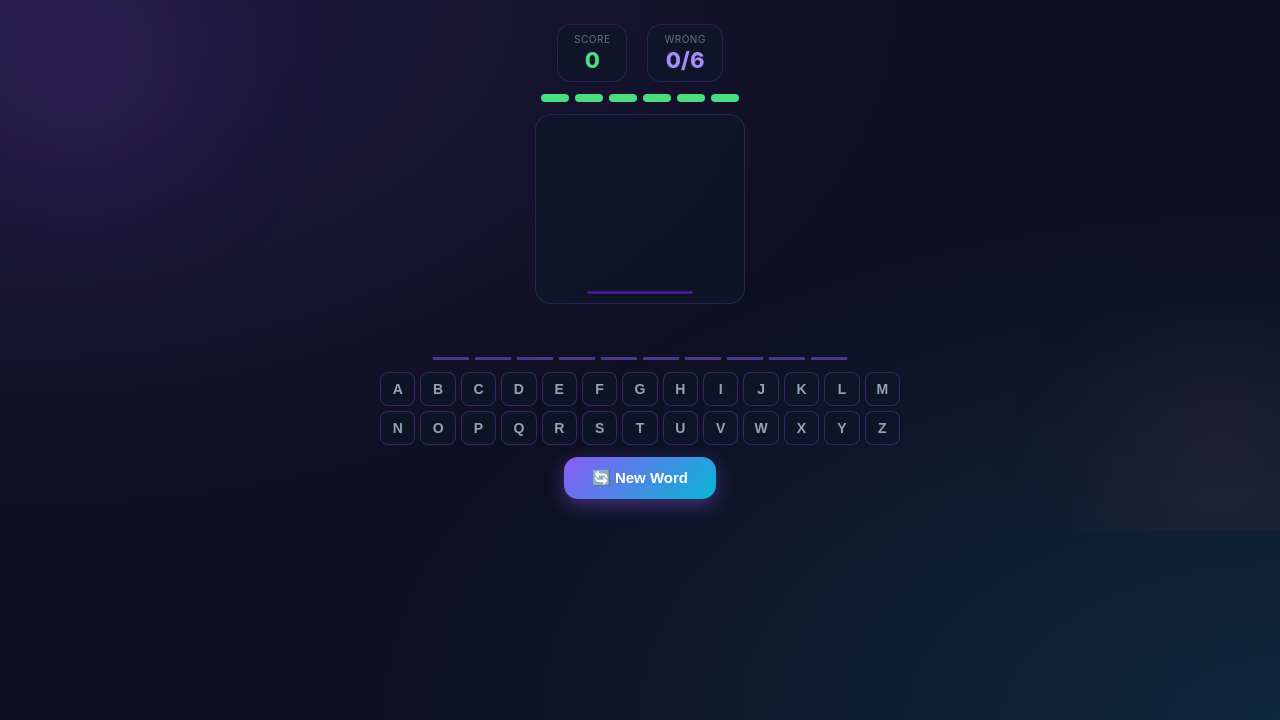
Test: Hangman Component › handles an incorrect guess
The image size is (1280, 720).
Click the button with class "hm-key" showing "Z". click: (882, 428)
box: x1=865 y1=411 x2=900 y2=445
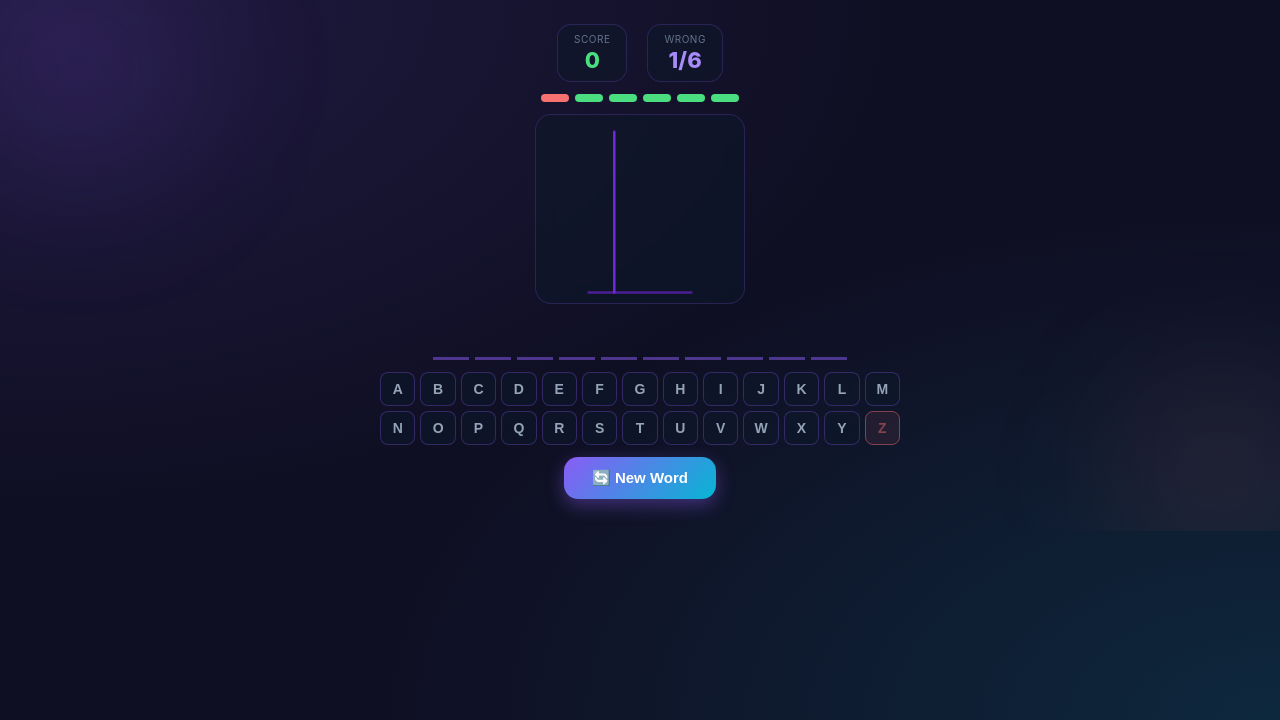
Check: the 9th element with class "hm-letter" is empty, box x1=433 y1=316 x2=469 y2=360
Check: the text with class "hm-stat-val" reads "1/6", box x1=669 y1=47 x2=702 y2=73
Check: the button with class "hm-key" showing "Z" is disabled, box x1=865 y1=411 x2=900 y2=445
